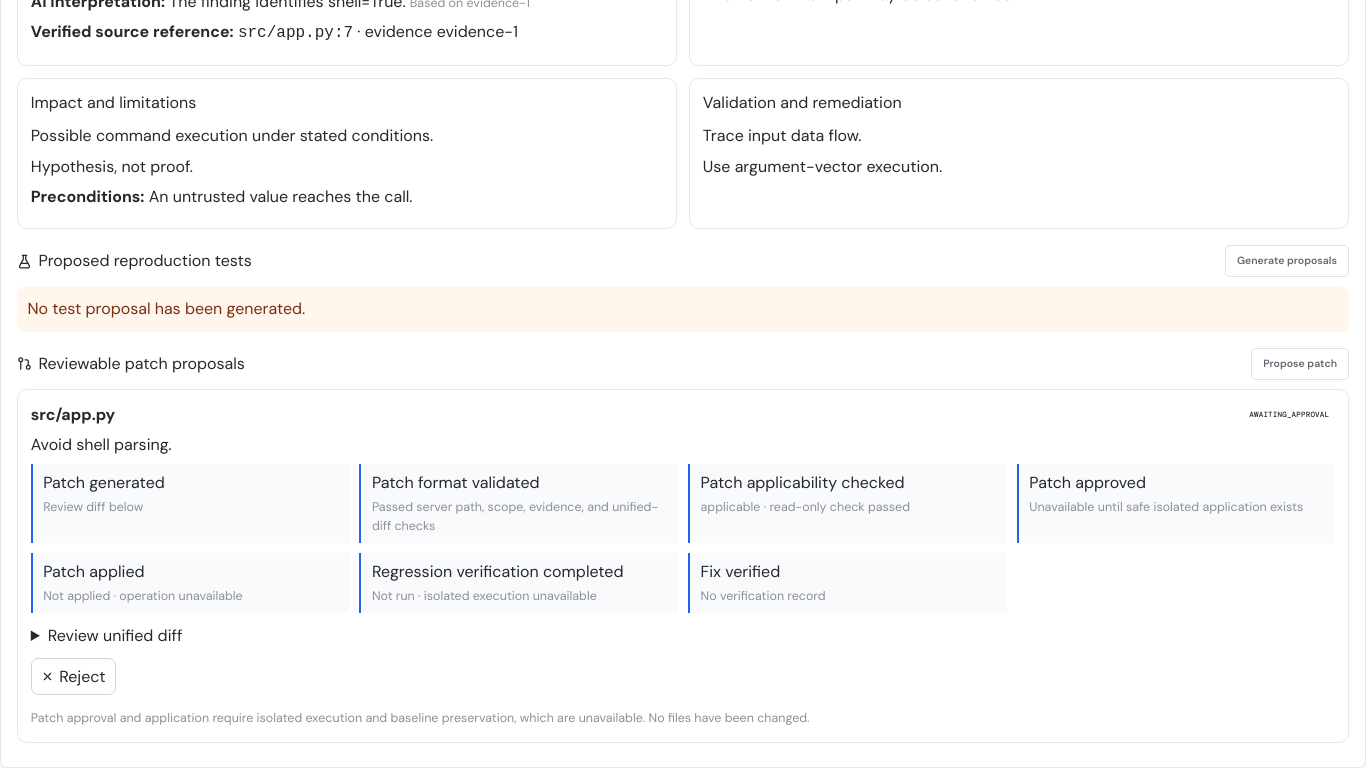
AI investigation panel › labels AI output as hypotheses, shows only verified source references, and exposes the review diff
(page scrolled)
Expected: the text "Verified source reference:" is shown, [31,21,234,42]
Click the heading "Review unified diff".
click(115, 635)  # box [48,625,182,646]
(page scrolled)
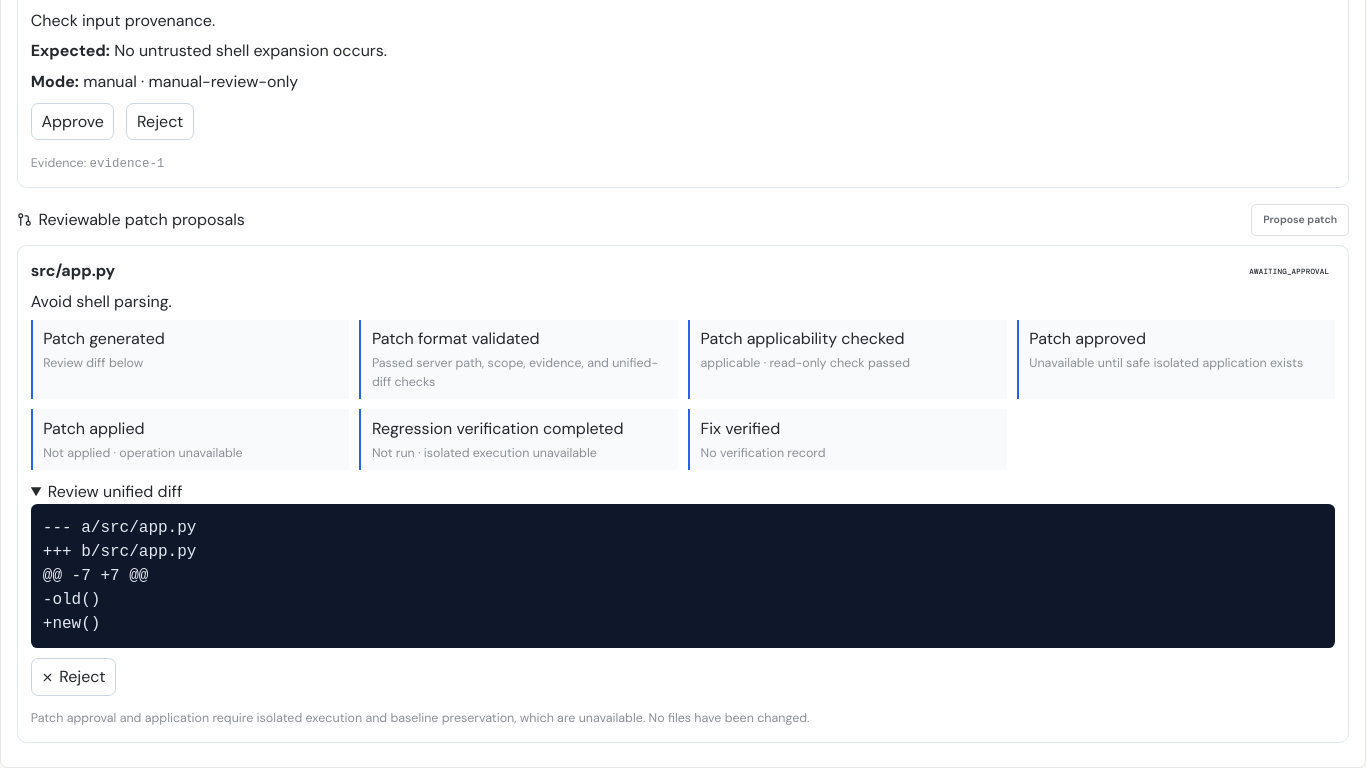
Expected: the text "Patch format validated" is shown, [372,328,540,349]
Expected: the text "--- a/src/app.py +++ b/src/app.py @@ -7 +7 @@ -old() +new()" is shown, [31,504,1335,648]
